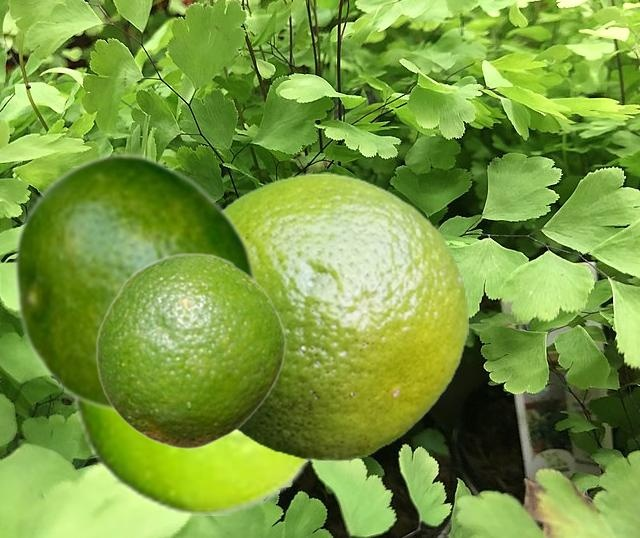calamansi: (223, 172, 467, 460), (11, 151, 260, 412), (95, 252, 285, 449), (71, 400, 318, 514)
